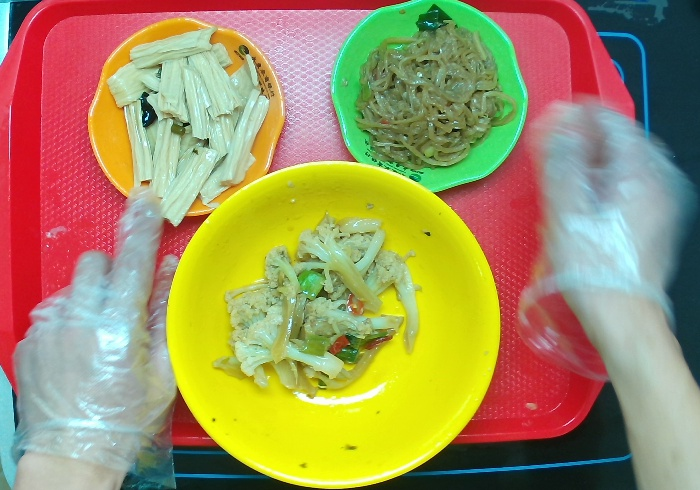YKMZ-Huang_Se_Tang_Wan: (165, 160, 504, 490)
YKMZ-Ju_Se_Ao_Bian_Wan: (84, 19, 290, 218)
YKMZ-Lv_Se_Ao_Bian_Wan: (327, 5, 529, 196)
